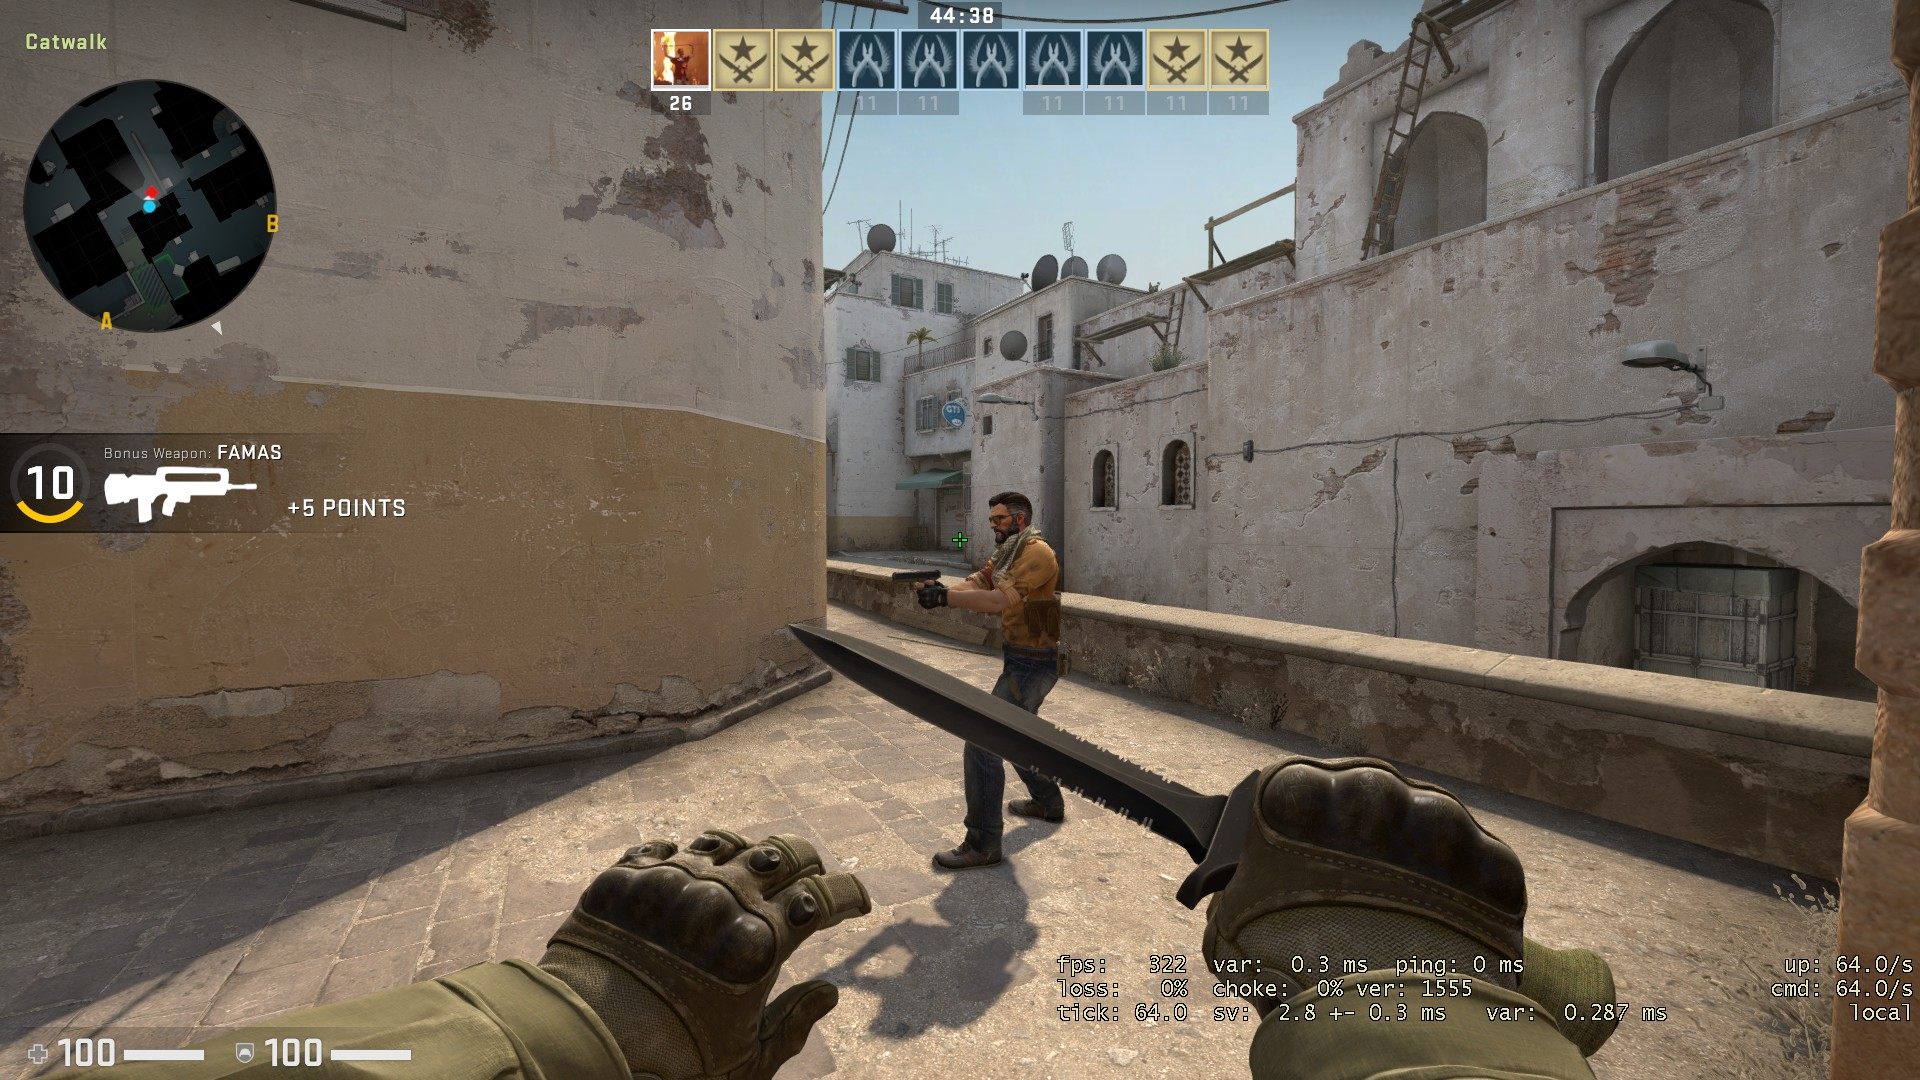player: (879, 486, 1074, 878)
